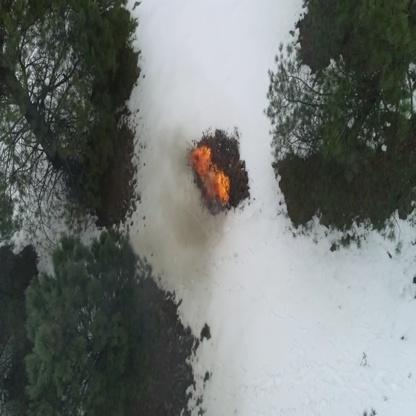Fire: (208, 170, 228, 205), (189, 146, 212, 168), (198, 166, 220, 184)
